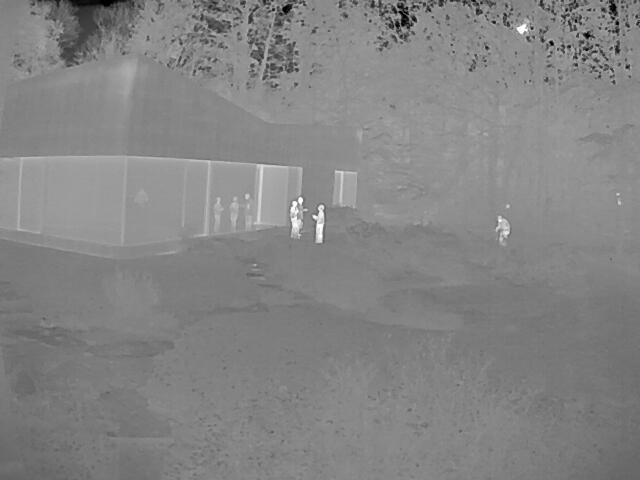person: (311, 204, 324, 245), (294, 196, 306, 237), (495, 214, 509, 248), (211, 195, 223, 231), (289, 200, 300, 239), (242, 192, 253, 229), (229, 195, 239, 231)
